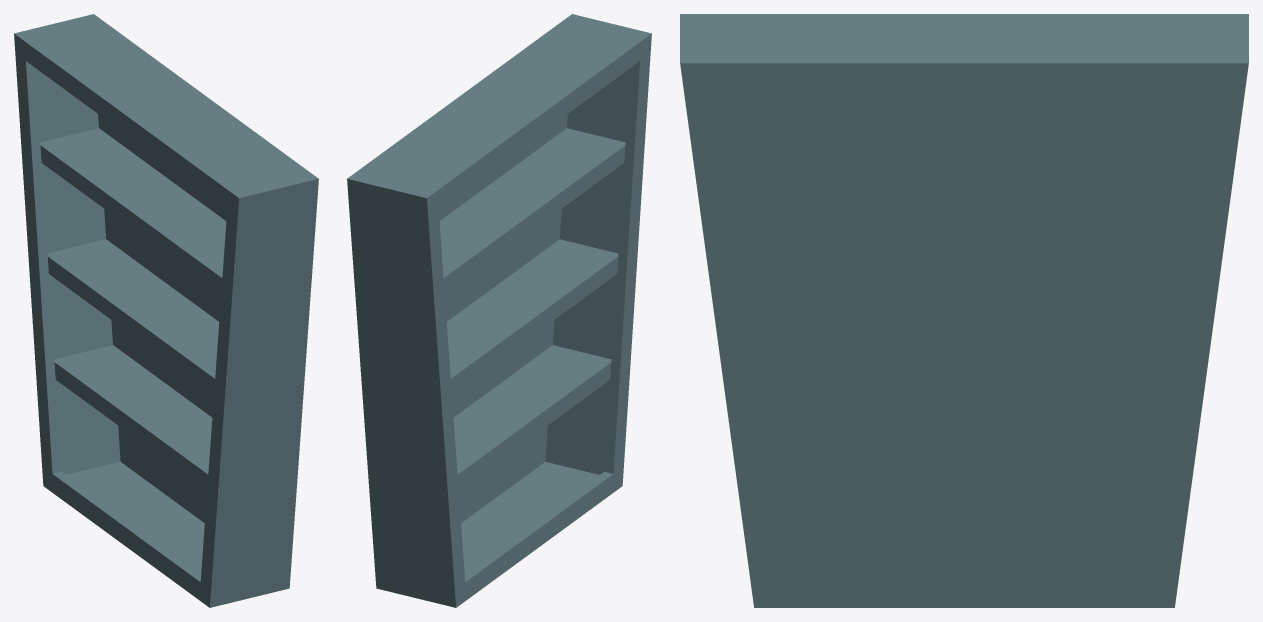
Rendered from Estanteria.fbx.
3 renders of one model, left to right at view 1: azimuth 30°, elevation 25°; view 2: azimuth 150°, elevation 25°; view 3: azimuth 270°, elevation 25°, orthographic. The views are drawn at different scales.
Visible parts, largest first — view 1: Estanteria.001; view 2: Estanteria.001; view 3: Estanteria.001.
Part boxes in pixels (<box>): Estanteria.001: <box>14,14,318,607</box>; Estanteria.001: <box>347,14,651,607</box>; Estanteria.001: <box>680,14,1248,607</box>.
Bounding box in the file's own units: 19.76 × 102 × 96.55.
